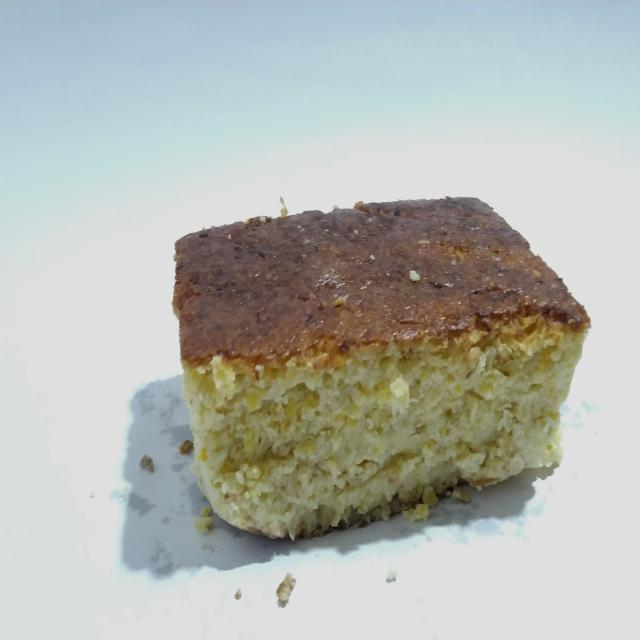Chipa_Guazu: (160, 184, 597, 548)
